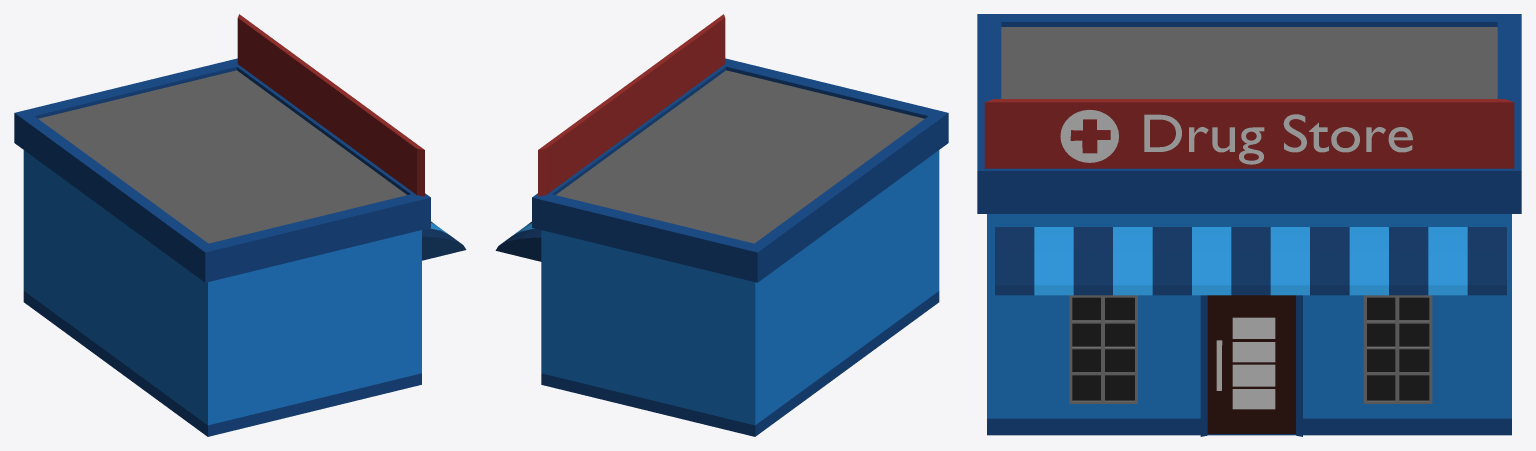
Rendered from Building_DrugStore.fbx.
The picture shows the model from 3 angles, left to right: view 1: azimuth 30°, elevation 25°; view 2: azimuth 150°, elevation 25°; view 3: azimuth 270°, elevation 25°; orthographic projection. The views are drawn at different scales.
Parts seen in each view (by area): view 1: Cube, Plane; view 2: Cube, Plane; view 3: Cube, Plane, Text, Circle.
Part boxes in pixels (<box>): Cube: <box>14,14,430,436</box>; Plane: <box>422,221,466,260</box>; Cube: <box>532,14,948,436</box>; Plane: <box>495,221,541,261</box>; Cube: <box>977,14,1521,436</box>; Plane: <box>995,227,1506,295</box>; Text: <box>1144,114,1412,164</box>; Circle: <box>1060,109,1118,162</box>.
Size of the model in its own units: 730 by 613 by 903.
